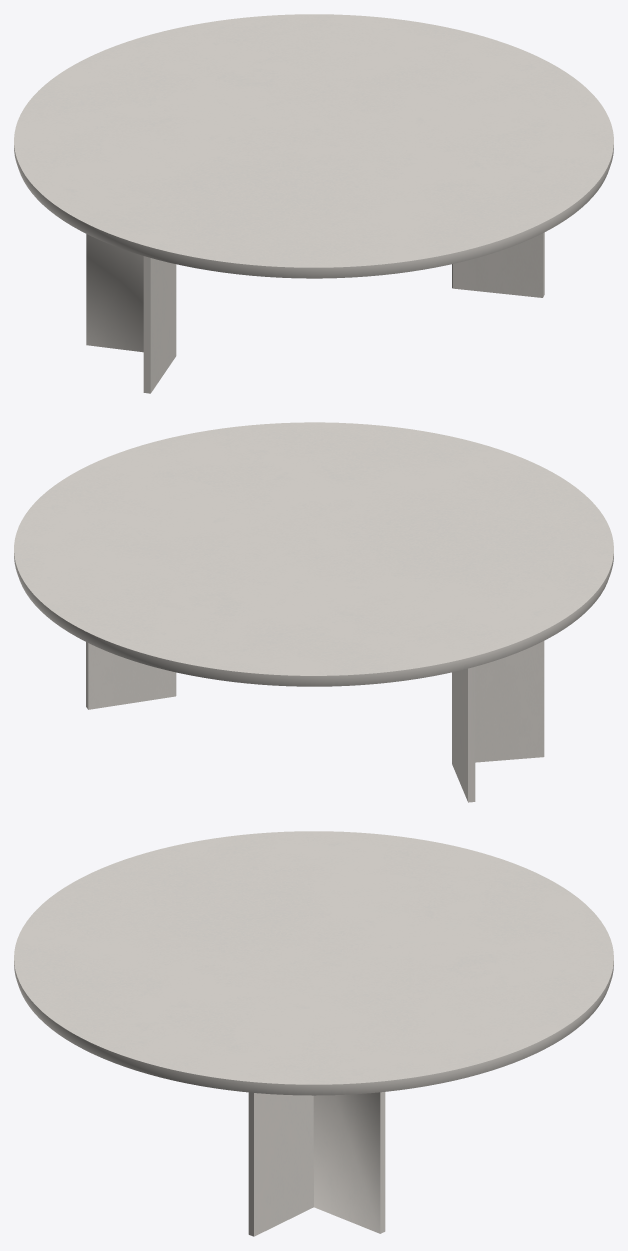
Rendered from pearlwhite_round_facet_valleyv.glb.
3 views of the same model, one above another, from view 1: azimuth 30°, elevation 25°; view 2: azimuth 150°, elevation 25°; view 3: azimuth 270°, elevation 25° (orthographic).
Visible parts, largest first — view 1: tabletop_round_facet.007, tableleg_valleyv.014; view 2: tabletop_round_facet.007, tableleg_valleyv.014; view 3: tabletop_round_facet.007, tableleg_valleyv.014.
Part boxes in pixels (x1,y1,x2,y2): tabletop_round_facet.007: [14, 14, 613, 278]; tableleg_valleyv.014: [86, 232, 544, 393]; tabletop_round_facet.007: [14, 422, 613, 686]; tableleg_valleyv.014: [86, 641, 544, 802]; tabletop_round_facet.007: [14, 831, 613, 1095]; tableleg_valleyv.014: [248, 1092, 385, 1236].
Bounding box in the file's own units: 7.5 × 2.5 × 7.5.
Materials: 1 (1 with a texture image).
